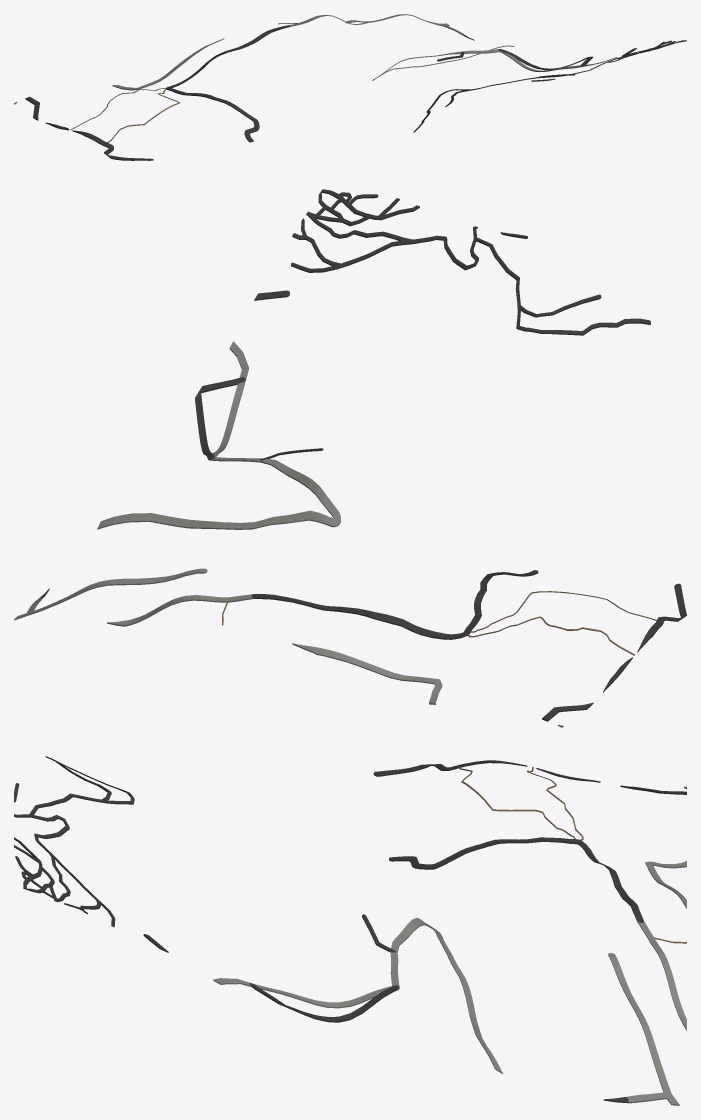
3 renders of one model, top to bottom at view 1: azimuth 30°, elevation 25°; view 2: azimuth 150°, elevation 25°; view 3: azimuth 270°, elevation 25°, orthographic. The views are drawn at different scales.
Bounding box in the file's own units: 587 × 214 × 583.
